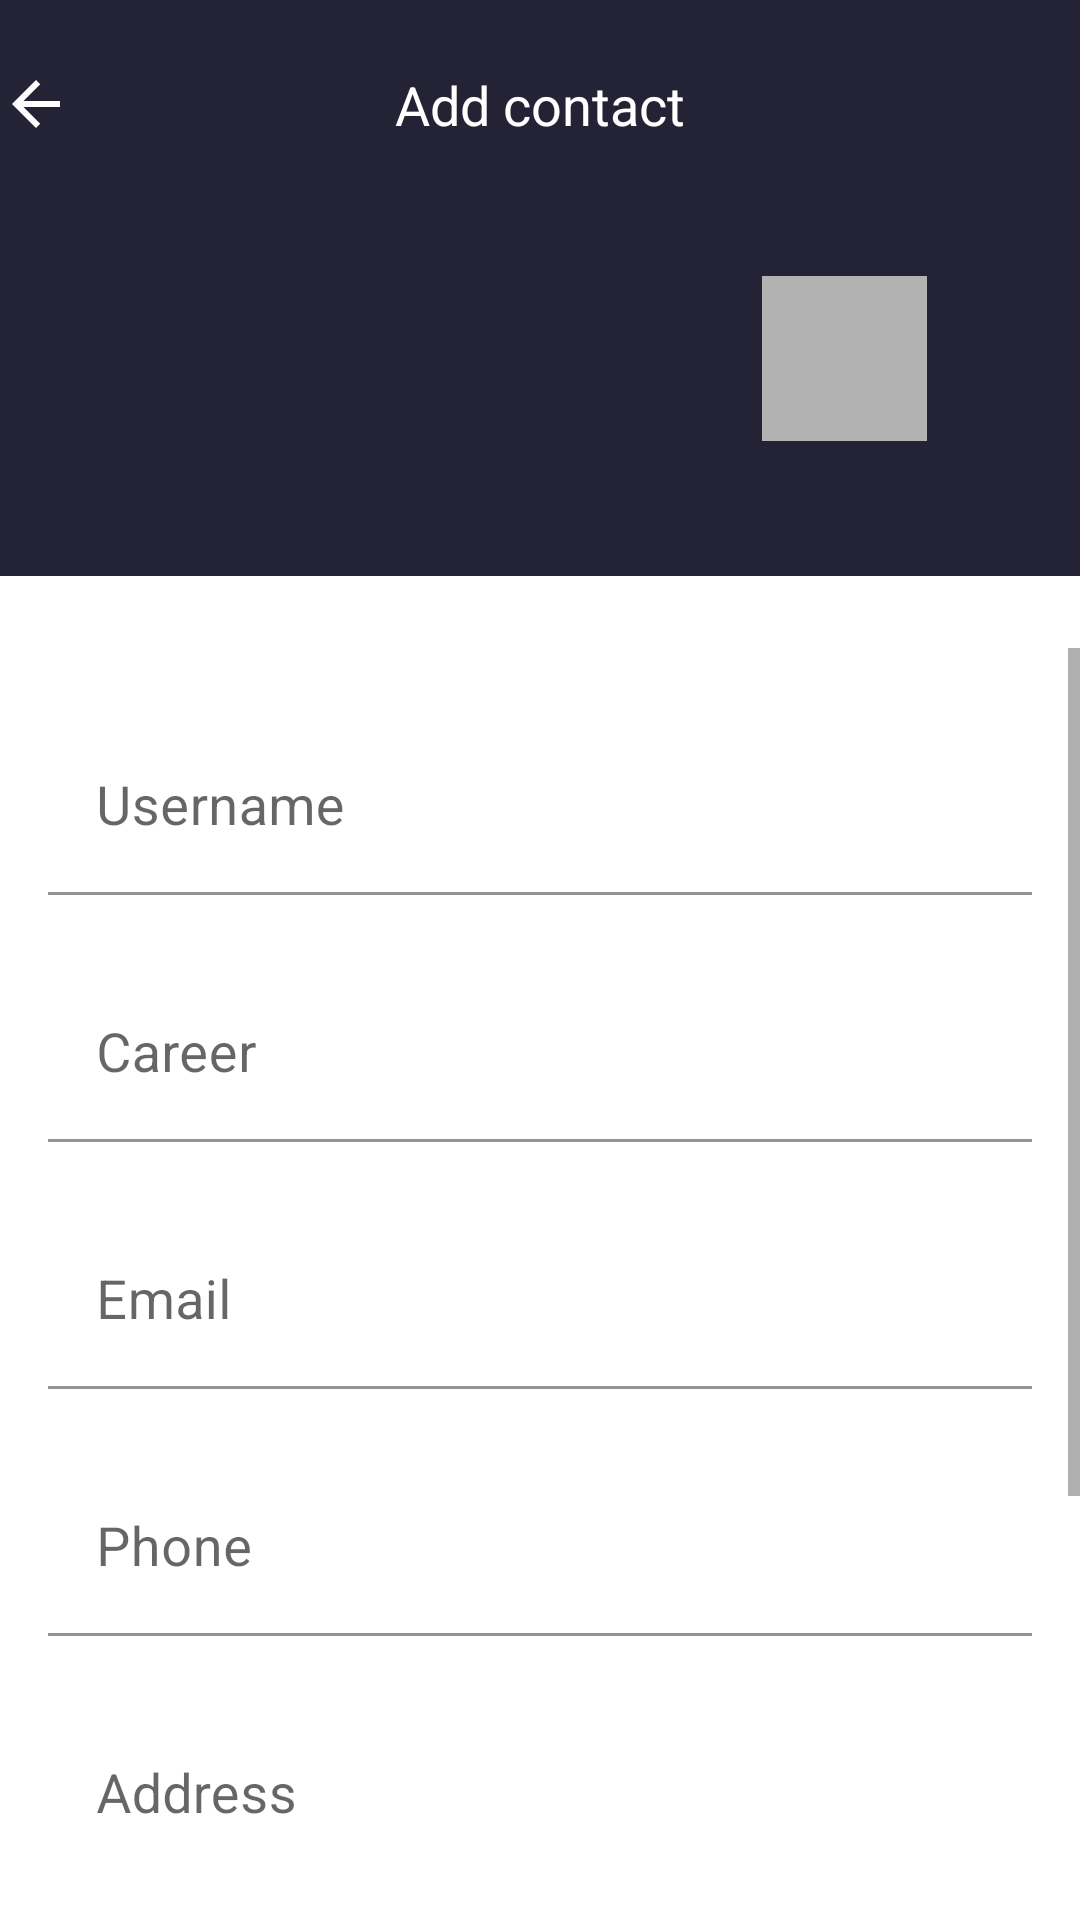

Where to tap for icons on this 1080px×1920px app screen, as point (x, y):
back arrow: point (36, 104)
